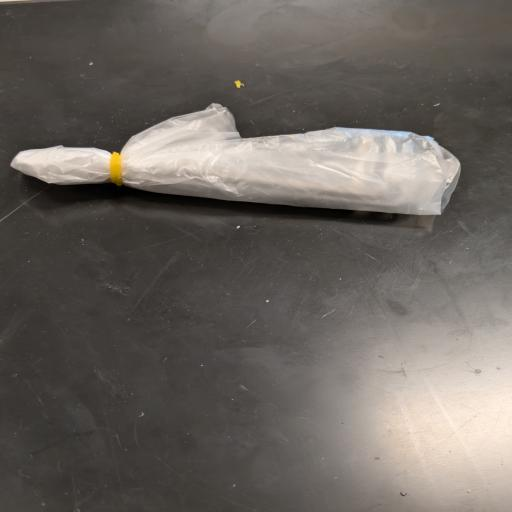rubberband: (9, 101, 468, 220)
